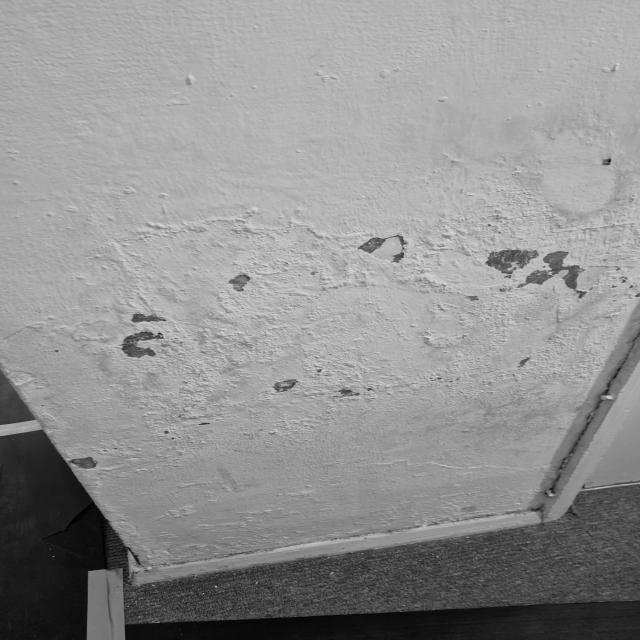stain marks: (1, 124, 640, 376), (21, 373, 617, 474), (87, 472, 554, 572)
